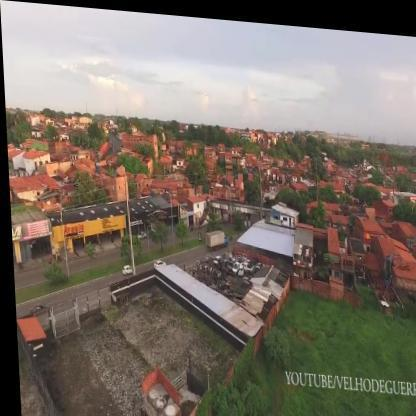lixo: (192, 253, 224, 281), (223, 248, 251, 272)
